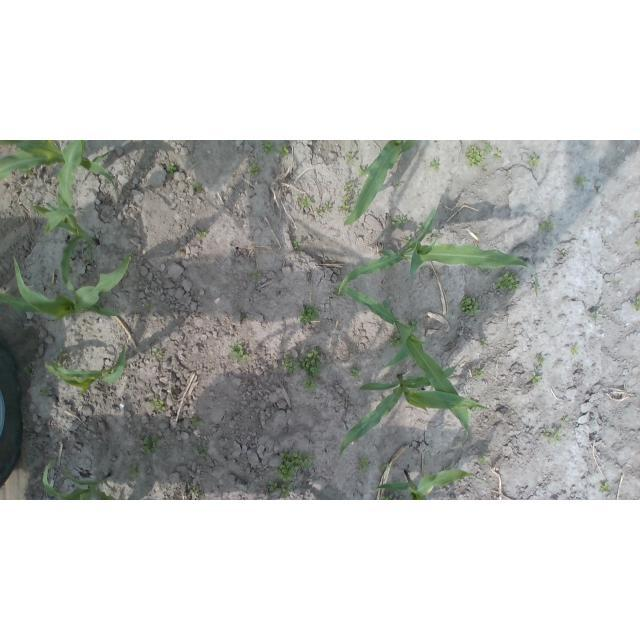Maize: (333, 283, 471, 451), (337, 208, 539, 296), (339, 357, 490, 457), (32, 141, 98, 294), (1, 254, 132, 320), (342, 140, 414, 226), (2, 140, 115, 193), (42, 344, 126, 397), (43, 457, 146, 500), (374, 469, 486, 500)
Weeds: (275, 448, 313, 482), (297, 346, 324, 378), (464, 144, 484, 169), (496, 272, 521, 292), (460, 296, 480, 316), (228, 344, 249, 363), (299, 306, 319, 324), (281, 355, 299, 375), (141, 435, 157, 454), (52, 348, 67, 368), (543, 428, 563, 442), (148, 399, 168, 412), (280, 484, 296, 500), (247, 163, 265, 177), (261, 141, 276, 156), (337, 204, 354, 217), (359, 456, 369, 477), (526, 154, 540, 169), (129, 463, 143, 477), (408, 317, 421, 332), (392, 216, 407, 229), (302, 378, 318, 390), (591, 305, 605, 318), (539, 220, 553, 233), (574, 176, 587, 189), (529, 371, 541, 385), (383, 299, 393, 315), (300, 195, 313, 207), (599, 481, 611, 493), (390, 336, 401, 349), (166, 162, 177, 175), (20, 167, 33, 178), (22, 364, 36, 374), (267, 479, 278, 491), (350, 366, 360, 379), (475, 368, 486, 379), (484, 141, 492, 155), (478, 454, 488, 465), (199, 447, 209, 457), (379, 462, 390, 471), (192, 183, 201, 194), (432, 160, 441, 171), (381, 493, 395, 500), (571, 345, 580, 355), (293, 239, 302, 249), (278, 146, 288, 155), (153, 348, 163, 357), (190, 486, 201, 494), (345, 152, 356, 160), (467, 405, 481, 411), (495, 148, 502, 160), (635, 294, 640, 310), (560, 416, 569, 424), (252, 272, 261, 280), (192, 418, 201, 426), (13, 147, 24, 153), (344, 182, 352, 190), (40, 388, 48, 396), (481, 339, 488, 347), (325, 203, 332, 211), (199, 229, 207, 236), (403, 236, 410, 243), (335, 284, 341, 292), (343, 194, 351, 200), (359, 166, 367, 172), (536, 360, 545, 365), (560, 250, 566, 257), (634, 211, 640, 218), (146, 304, 153, 309), (395, 182, 401, 187), (416, 224, 423, 228), (436, 232, 441, 237), (636, 239, 640, 245), (316, 209, 320, 215), (41, 376, 44, 380)
